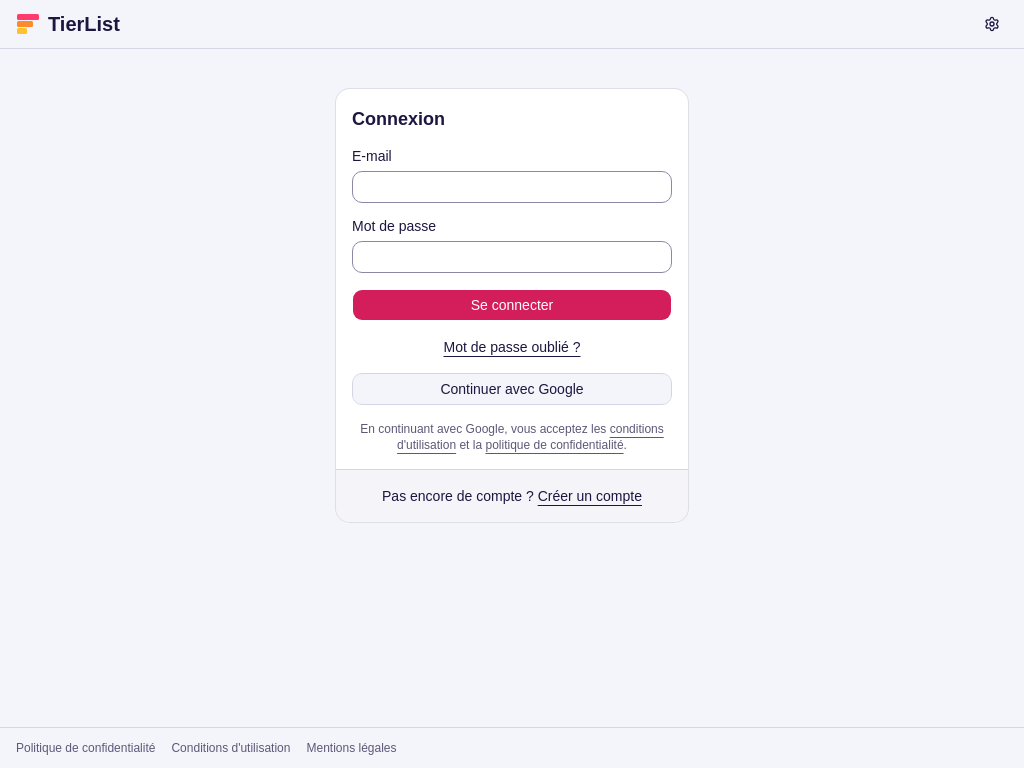
Test: SettingsPanel › changes the theme and the language from the panel
Step 1. Click the button named "Paramètres" → click(992, 24), box [976, 8, 1008, 40]
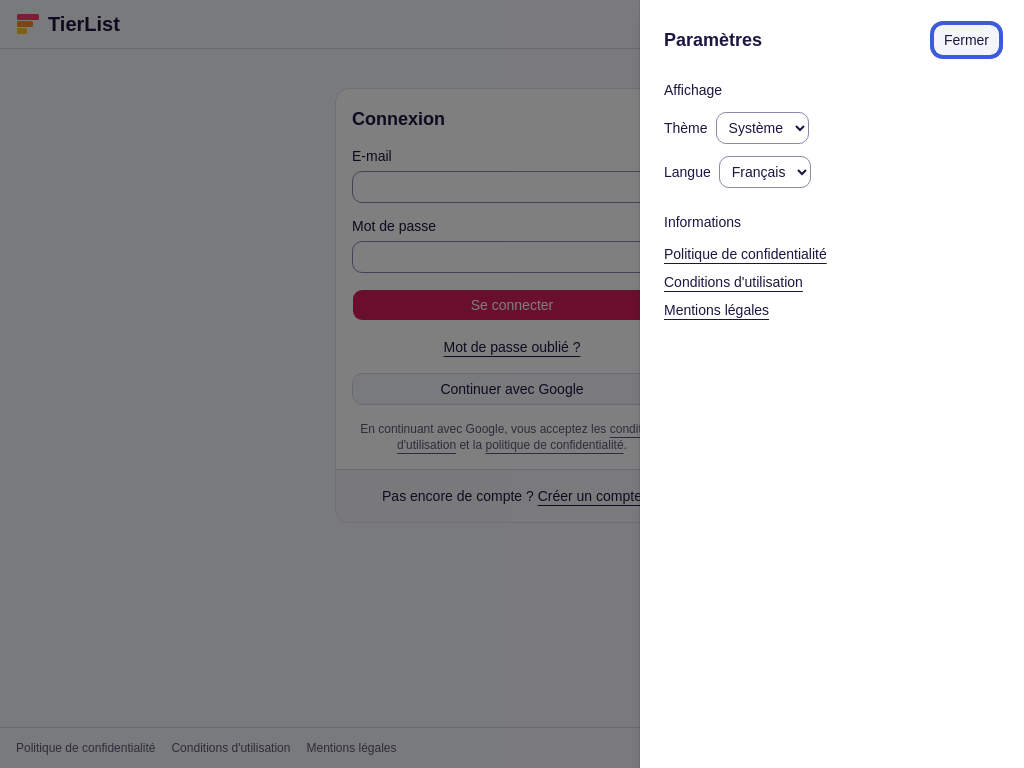
Step 2. Select "Sombre" in the dropdown labelled "Thème" → (762, 128), box [716, 112, 809, 144]
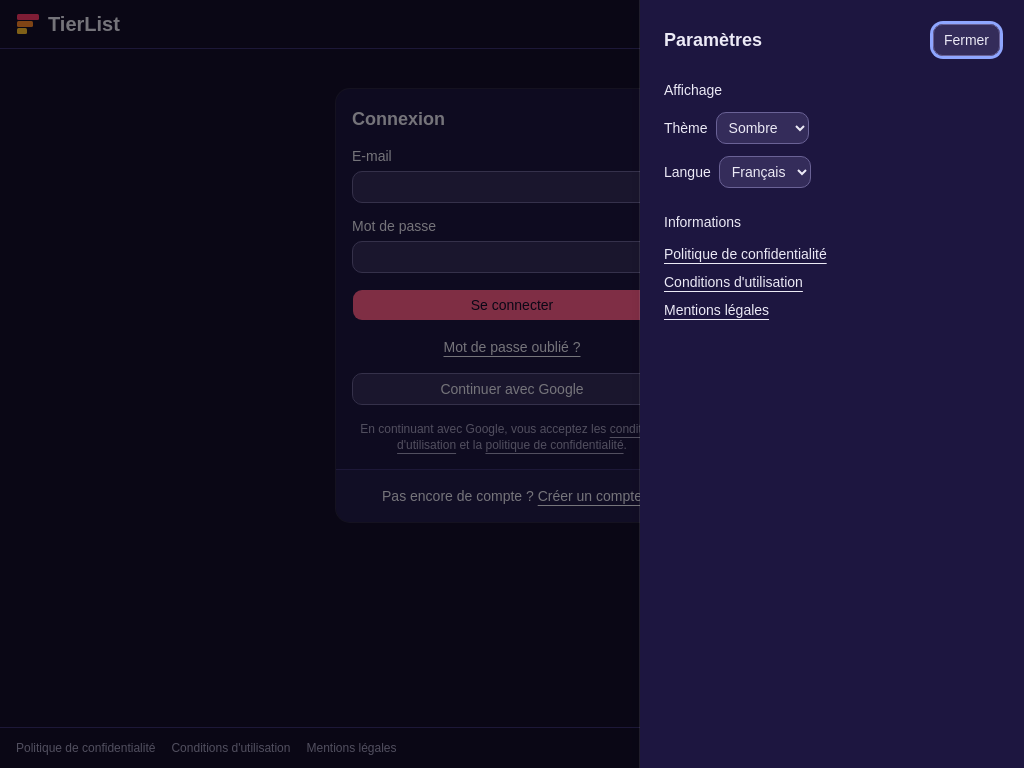
Step 3. Select "English" in the dropdown labelled "Langue" → (765, 172), box [719, 156, 811, 188]
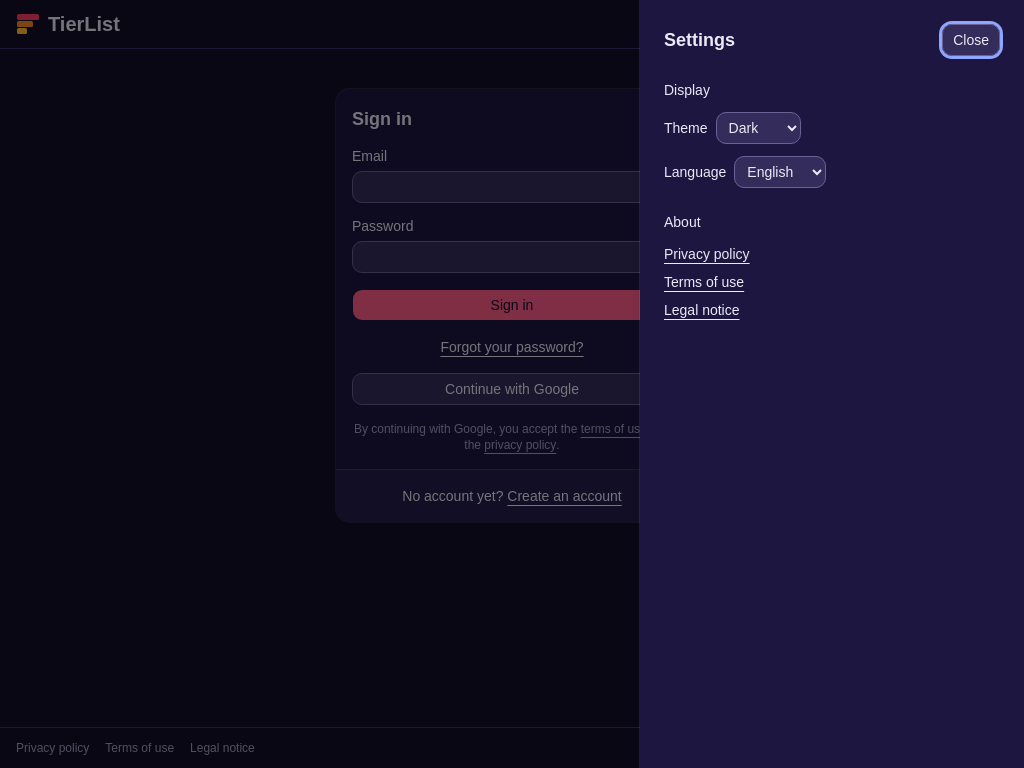
Check: the dialog "Settings" is shown, box [640, 0, 1023, 767]
